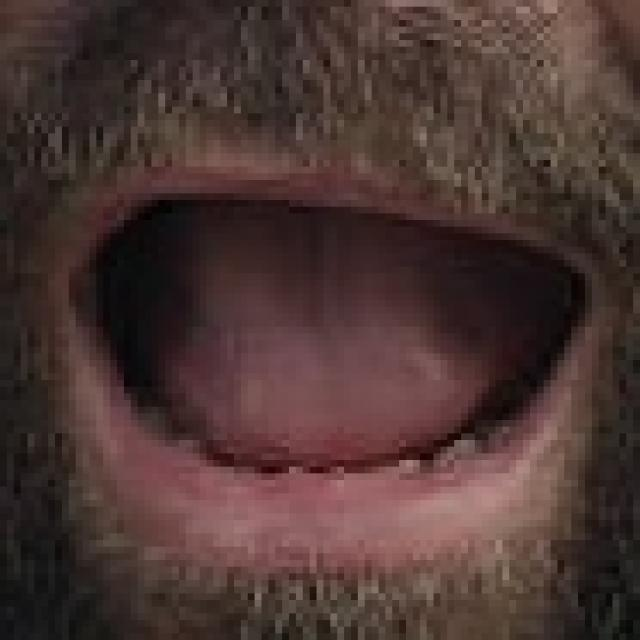open-mouth: (35, 153, 620, 587)
